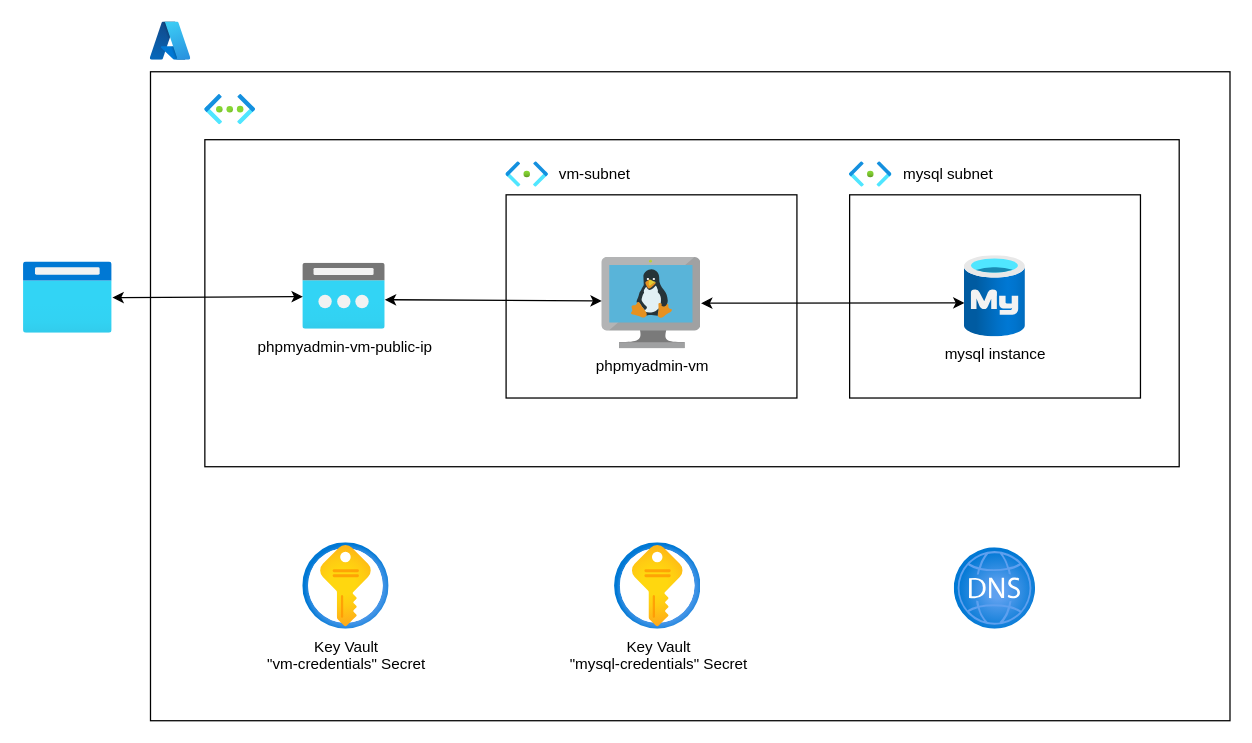
This 1252x743 diagram has some shape labels left out. Each missing label, with the centre of its shape:
Azure Cloud - US Central Region: pixel 170 41
privatelink.mysql.database.azure.com: pixel 994 588
Virtual Network - mysql-vnet: pixel 229 109
Web Browser: pixel 67 297
